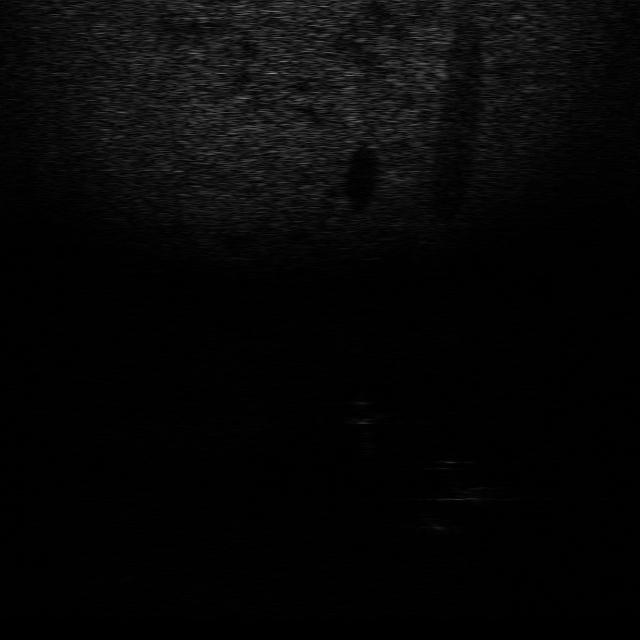ball: (339, 394, 386, 424)
metal bucket: (412, 506, 462, 534)
tyre: (436, 455, 500, 504)
